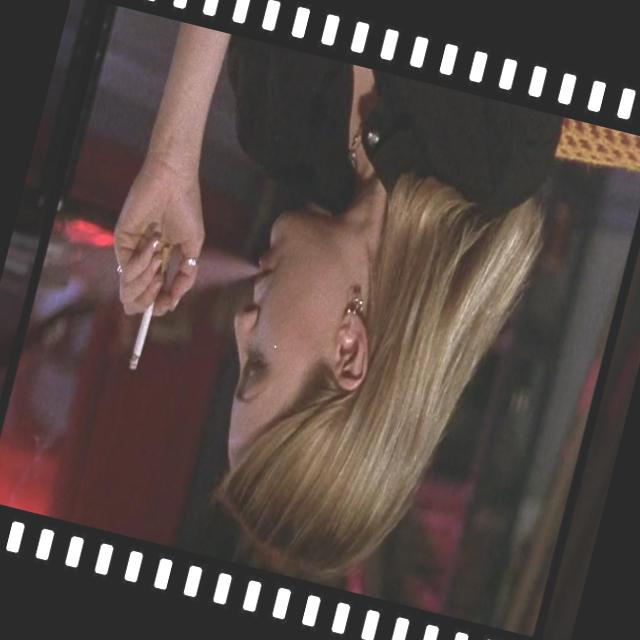cigarette: (110, 218, 196, 388)
